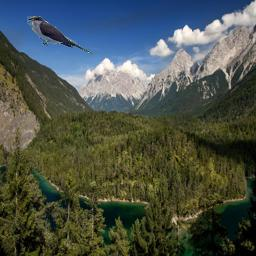Cuckoo: (27, 16, 93, 55)
